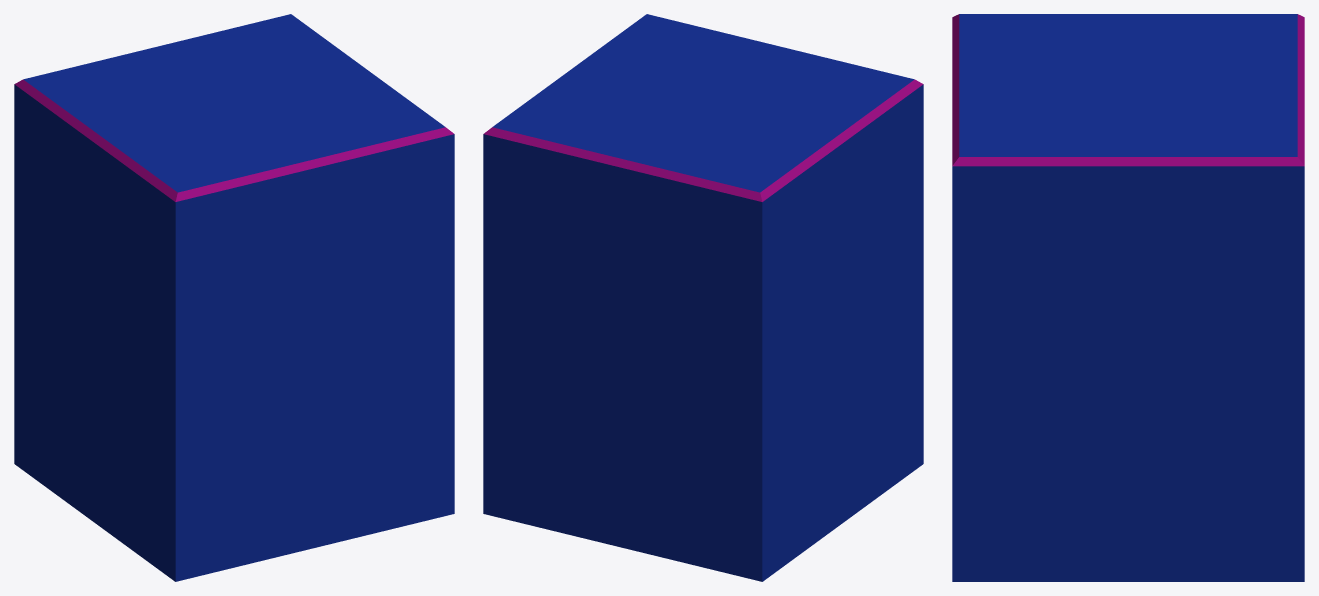
The model's file is gridCube.fbx.
3 renders of one model, left to right at view 1: azimuth 30°, elevation 25°; view 2: azimuth 150°, elevation 25°; view 3: azimuth 270°, elevation 25°, orthographic. The views are drawn at different scales.
Parts seen in each view (by area): view 1: Box001; view 2: Box001; view 3: Box001.
Part boxes in pixels (box(x1,y1,x2,y2)): Box001: box(14, 14, 454, 581); Box001: box(483, 14, 923, 581); Box001: box(952, 14, 1304, 581).
Size of the model in its own units: 12 by 15.84 by 12.
